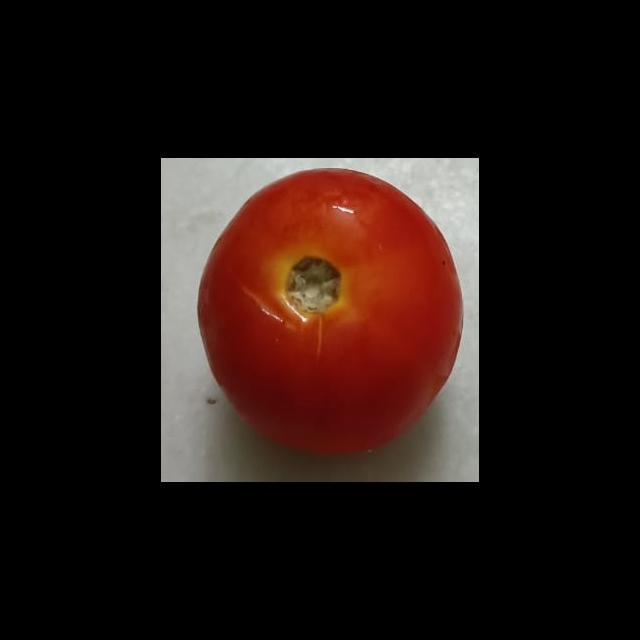tomato: (191, 164, 472, 457)
